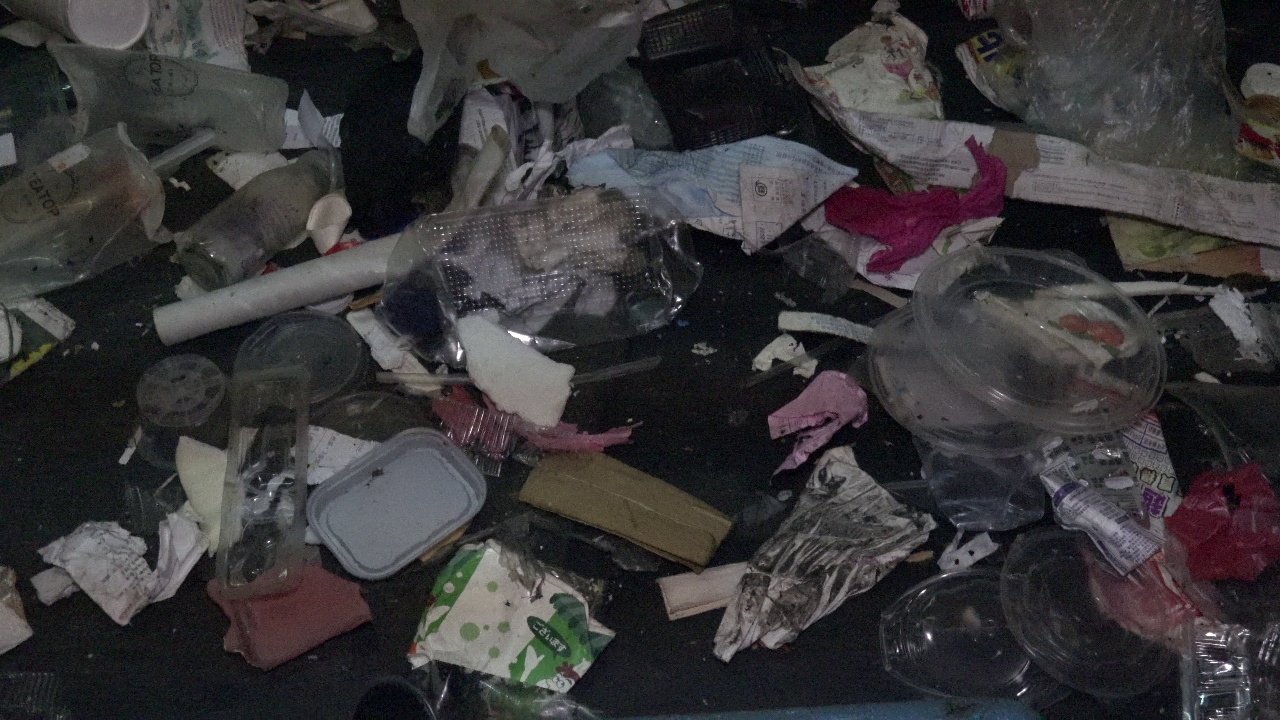PaperContaine: (412, 542, 623, 697)
PlasticContainer: (378, 178, 712, 370), (873, 243, 1177, 447), (18, 38, 301, 156), (993, 523, 1205, 679), (0, 118, 161, 310), (305, 420, 487, 589), (621, 3, 806, 165), (874, 555, 1045, 711), (211, 357, 312, 619), (221, 304, 375, 422), (111, 353, 235, 472)
